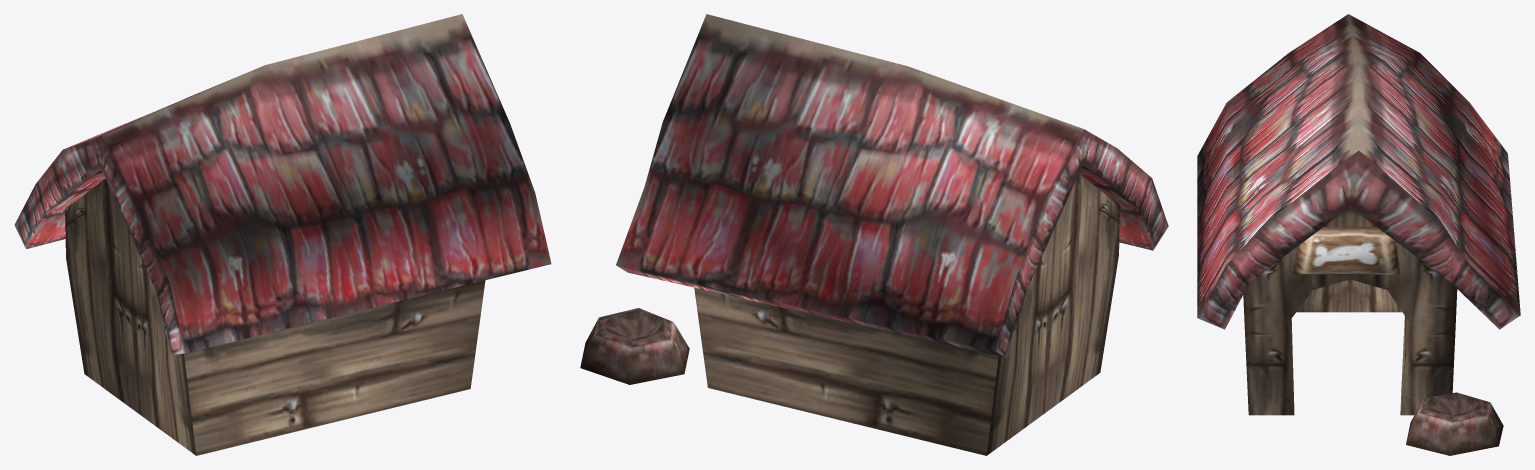
The model's file is doghouse.obj.
3 renders of one model, left to right at view 1: azimuth 30°, elevation 25°; view 2: azimuth 150°, elevation 25°; view 3: azimuth 270°, elevation 25°, orthographic. The views are drawn at different scales.
Visible parts, largest first — view 1: DOGHOUSE0; view 2: DOGHOUSE0, DOGHOUSE1; view 3: DOGHOUSE0, DOGHOUSE1.
Boxes of the visible parts, left/top/right/bottom form: DOGHOUSE0: left=14, top=14, right=551, bottom=455; DOGHOUSE0: left=616, top=14, right=1168, bottom=455; DOGHOUSE1: left=580, top=308, right=689, bottom=384; DOGHOUSE0: left=1197, top=14, right=1520, bottom=415; DOGHOUSE1: left=1406, top=392, right=1503, bottom=455.
Bounding box in the file's own units: 2.93 × 2.04 × 2.08.
2 materials, 2 textured.
